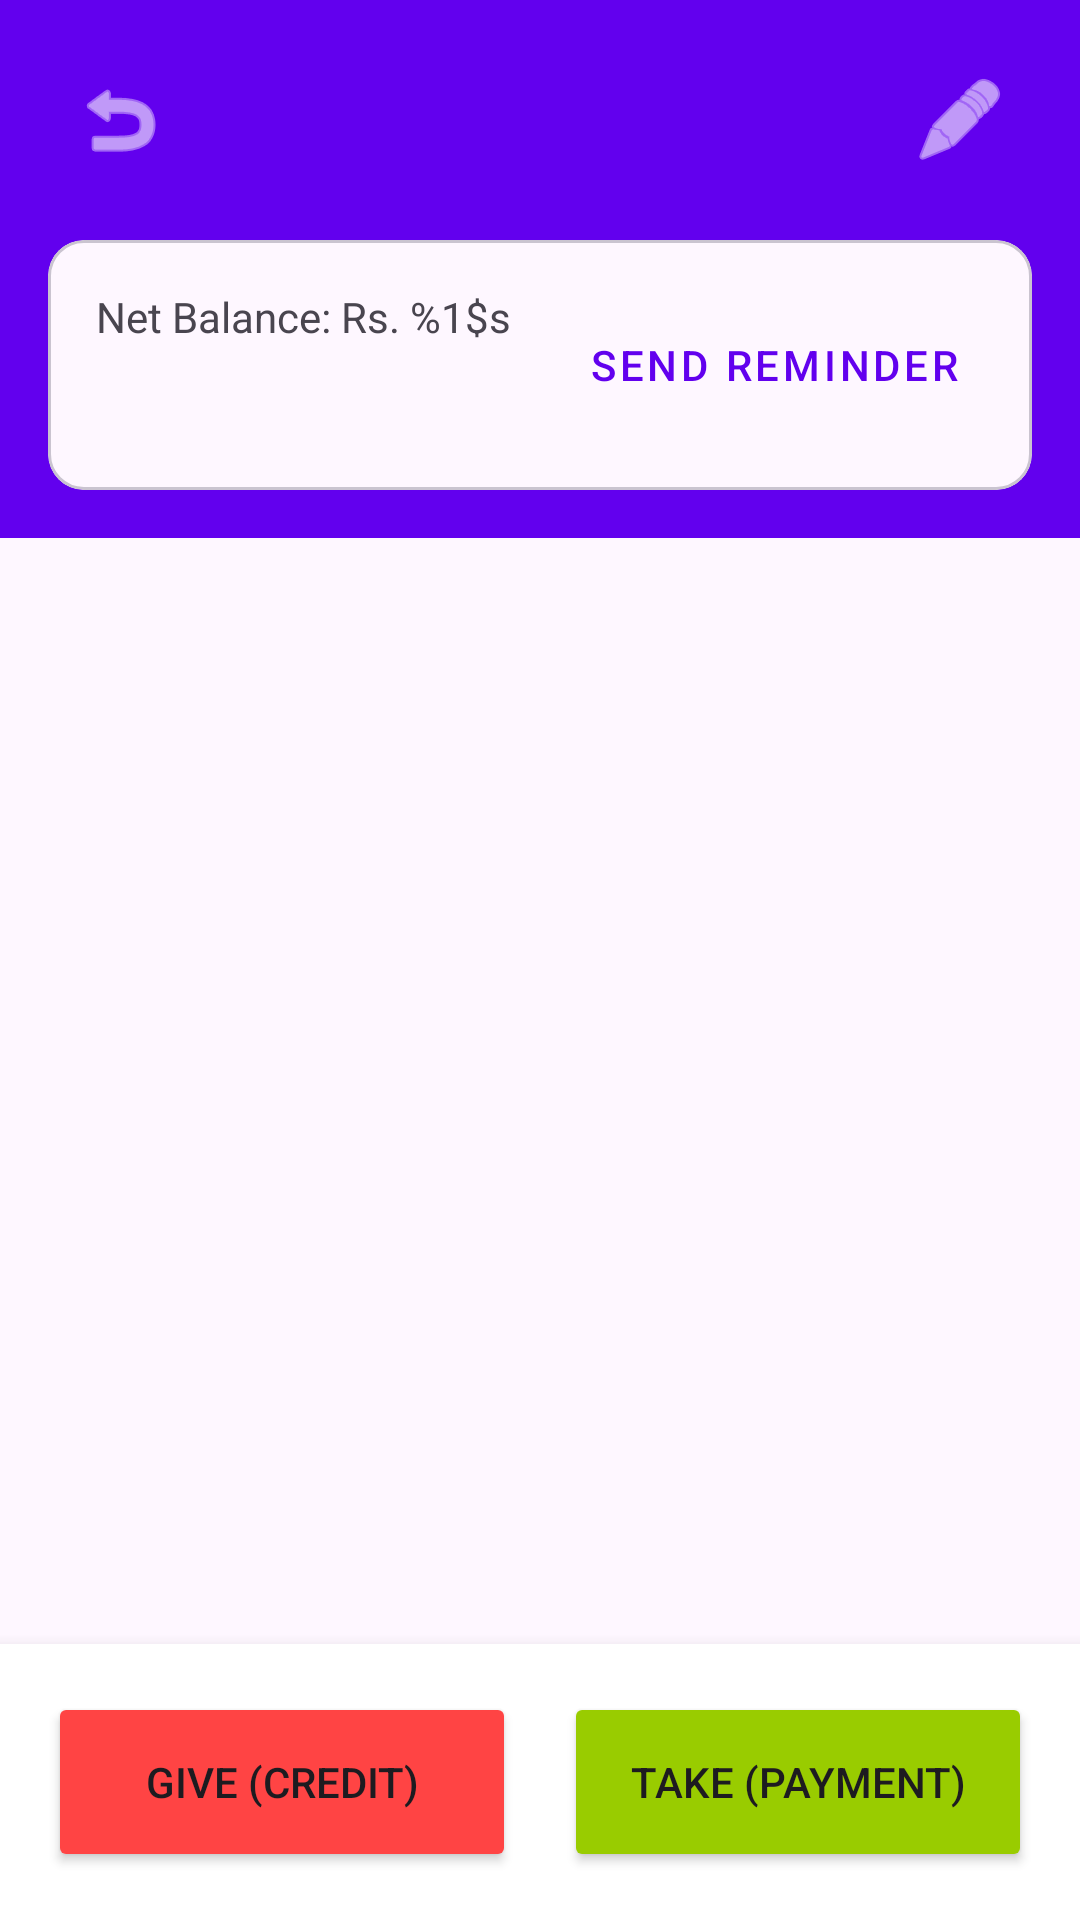

Named icons in this screenshot (1080 x 1920) and their centers, (x=x, y=y):
edit: (x=959, y=119)
revert: (x=121, y=120)
